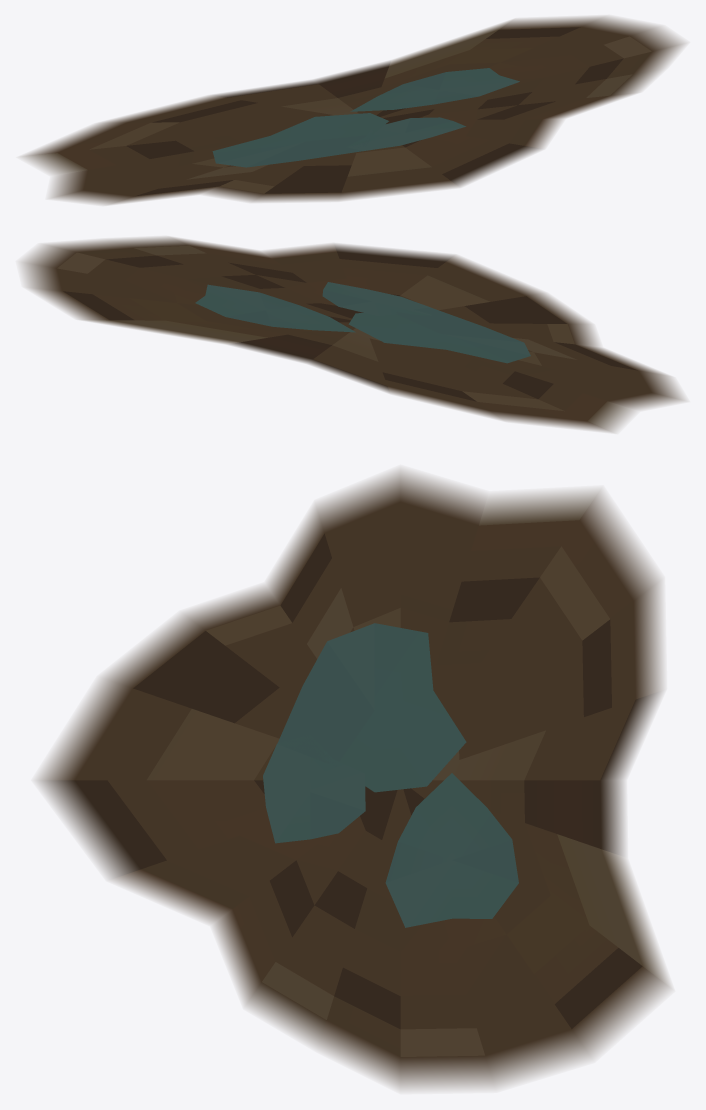
Rendered from swamp_c_low.glb.
3 renders of one model, top to bottom at view 1: azimuth 30°, elevation 25°; view 2: azimuth 150°, elevation 25°; view 3: azimuth 270°, elevation 25°, orthographic. The views are drawn at different scales.
Visible parts, largest first — view 1: swamp_c; view 2: swamp_c; view 3: swamp_c.
Boxes of the visible parts, x1,y1,x2,y2 form: swamp_c: [21, 16, 685, 204]; swamp_c: [21, 237, 685, 432]; swamp_c: [36, 469, 670, 1089].
Size of the model in its own units: 11.63 by 0.0149 by 5.03.
